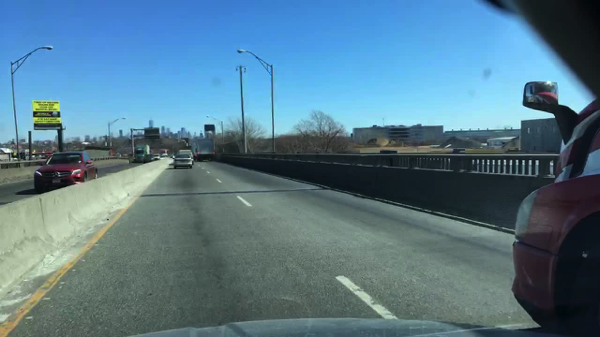car: (511, 80, 599, 336), (33, 151, 98, 194), (173, 154, 194, 169), (176, 150, 193, 164), (142, 153, 154, 166), (43, 151, 52, 158), (153, 154, 161, 160), (161, 153, 169, 158)
traffic sign: (32, 102, 59, 130), (144, 128, 160, 140), (204, 124, 215, 132)
truck: (193, 138, 215, 161), (132, 146, 149, 165)
